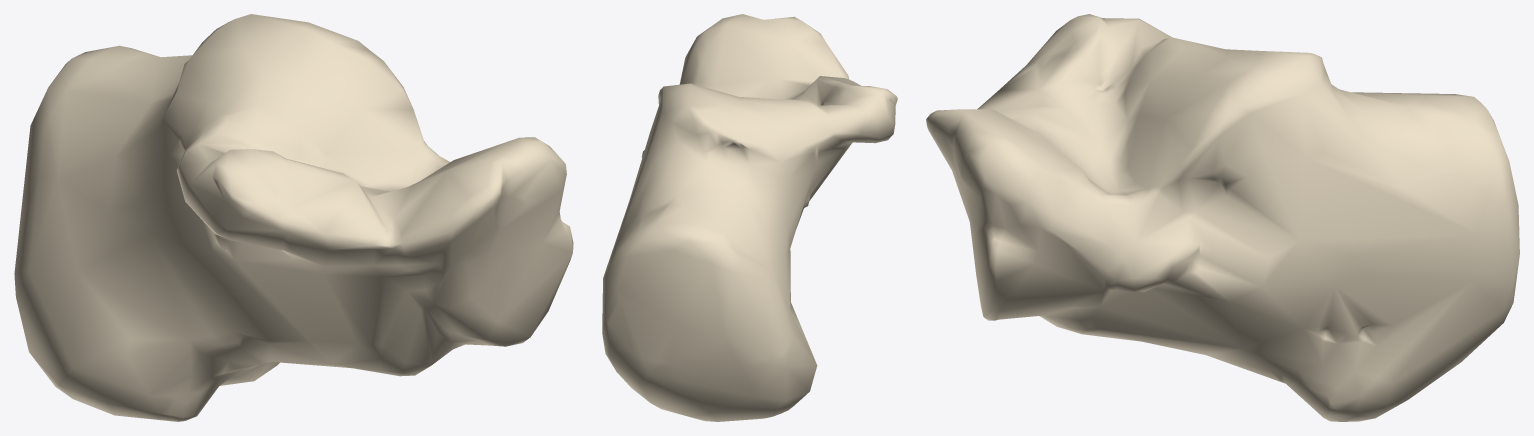
The model's file is calcaneus-l.glb.
3 renders of one model, left to right at view 1: azimuth 30°, elevation 25°; view 2: azimuth 150°, elevation 25°; view 3: azimuth 270°, elevation 25°, orthographic. The views are drawn at different scales.
Visible parts, largest first — view 1: Calcaneus.l; view 2: Calcaneus.l; view 3: Calcaneus.l.
Boxes of the visible parts, left/top/right/bottom form: Calcaneus.l: left=14, top=14, right=573, bottom=421; Calcaneus.l: left=602, top=14, right=897, bottom=421; Calcaneus.l: left=926, top=14, right=1519, bottom=421.
Size of the model in its own units: 0.0475 by 0.0511 by 0.0757.
